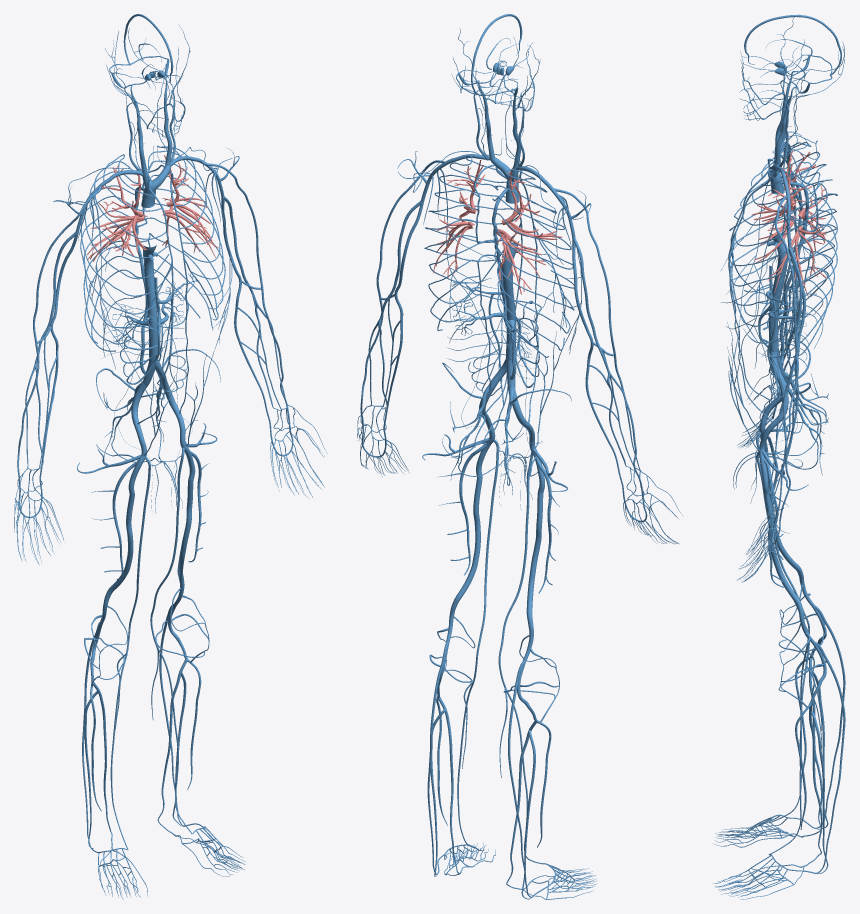
Rendered from veins.glb.
The picture shows the model from 3 angles, left to right: view 1: azimuth 30°, elevation 25°; view 2: azimuth 150°, elevation 25°; view 3: azimuth 270°, elevation 25°; orthographic projection. The views are drawn at different scales.
Parts seen in each view (by area): view 1: Superior intercostal vein (R), Superior intercostal vein (L), Great saphenous vein (L), Great saphenous vein (R), Femoral vein (R), Femoral vein (L), Cephalic vein (R), Cephalic vein (L), Basilic vein (R), Basilic vein (L); view 2: Superior intercostal vein (R), Superior intercostal vein (L), Great saphenous vein (L), Great saphenous vein (R), Femoral vein (L), Femoral vein (R), Cephalic vein (R), Basilic vein (R), Cephalic vein (L), Basilic vein (L), Small saphenous vein (R), Small saphenous vein (L); view 3: Superior intercostal vein (L), Superior intercostal vein (R), Cephalic vein (L), Femoral vein (L), Great saphenous vein (L), Small saphenous vein (L), Great saphenous vein (R), Small saphenous vein (R), Inferior vena cava (abdominal part), Basilic vein (L), Femoral vein (R), Posterior tibial veins (L) (+23 smaller).
Part boxes in pixels (bbox=[...]): Superior intercostal vein (R): bbox=[80, 154, 171, 351]; Superior intercostal vein (L): bbox=[144, 146, 225, 330]; Great saphenous vein (L): bbox=[150, 447, 192, 833]; Great saphenous vein (R): bbox=[110, 456, 150, 849]; Femoral vein (R): bbox=[111, 439, 146, 589]; Femoral vein (L): bbox=[177, 429, 195, 573]; Cephalic vein (R): bbox=[17, 186, 101, 489]; Cephalic vein (L): bbox=[202, 161, 290, 423]; Basilic vein (R): bbox=[40, 232, 78, 477]; Basilic vein (L): bbox=[221, 197, 270, 421]; Superior intercostal vein (R): bbox=[492, 169, 574, 357]; Superior intercostal vein (L): bbox=[424, 155, 518, 330]; Great saphenous vein (L): bbox=[457, 439, 499, 847]; Great saphenous vein (R): bbox=[498, 452, 541, 863]; Femoral vein (L): bbox=[458, 425, 495, 596]; Femoral vein (R): bbox=[526, 435, 544, 611]; Cephalic vein (R): bbox=[554, 188, 643, 497]; Basilic vein (R): bbox=[572, 238, 623, 484]; Cephalic vein (L): bbox=[360, 160, 444, 429]; Basilic vein (L): bbox=[383, 201, 423, 426]; Small saphenous vein (R): bbox=[508, 660, 543, 897]; Small saphenous vein (L): bbox=[427, 641, 448, 874]; Superior intercostal vein (L): bbox=[729, 161, 837, 357]; Superior intercostal vein (R): bbox=[729, 142, 837, 306]; Cephalic vein (L): bbox=[774, 195, 797, 519]; Femoral vein (L): bbox=[759, 435, 798, 601]; Great saphenous vein (L): bbox=[756, 451, 821, 854]; Small saphenous vein (L): bbox=[804, 641, 845, 873]; Great saphenous vein (R): bbox=[756, 432, 821, 823]; Small saphenous vein (R): bbox=[804, 605, 845, 828]; Inferior vena cava (abdominal part): bbox=[768, 278, 784, 350]; Basilic vein (L): bbox=[779, 248, 805, 502]; Femoral vein (R): bbox=[759, 415, 798, 568]; Posterior tibial veins (L): bbox=[805, 704, 822, 866].
Size of the model in its own units: 0.6785 by 1.74 by 0.2461.
